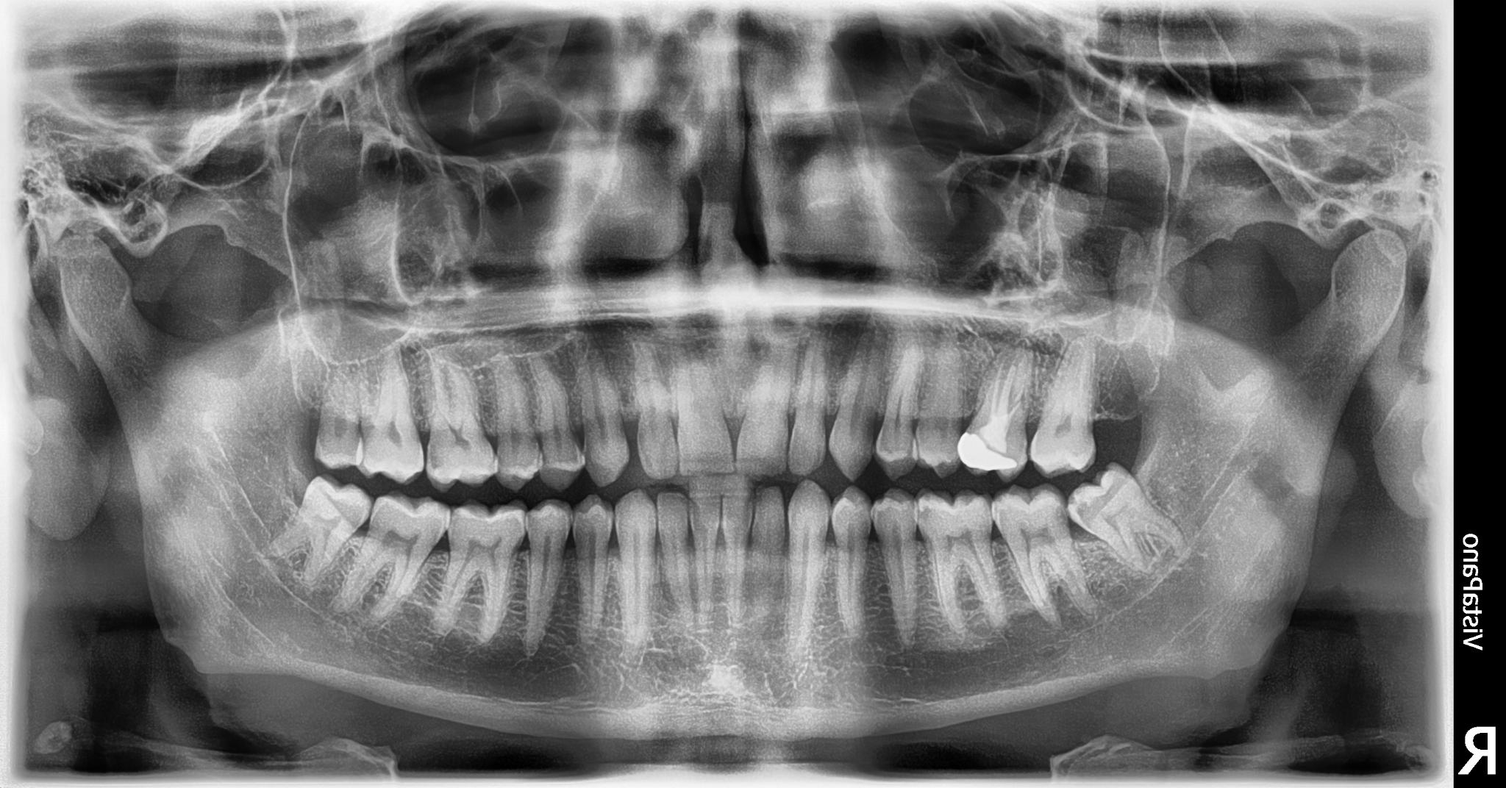Premolars: (540, 251, 1506, 730), (510, 244, 1468, 724), (583, 245, 1506, 697), (282, 240, 807, 746), (209, 148, 627, 565), (173, 234, 483, 703)
